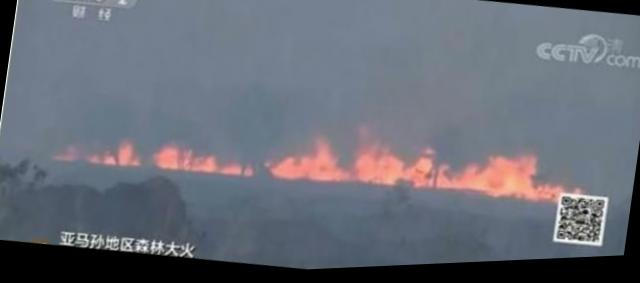fire: (58, 87, 564, 226)
